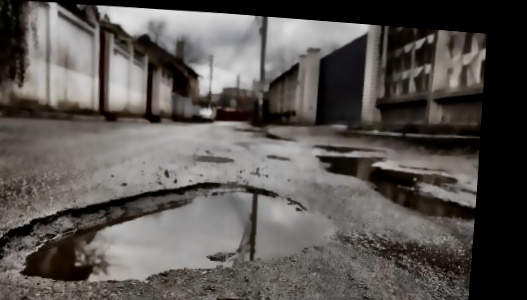pothole: (0, 159, 339, 300)
